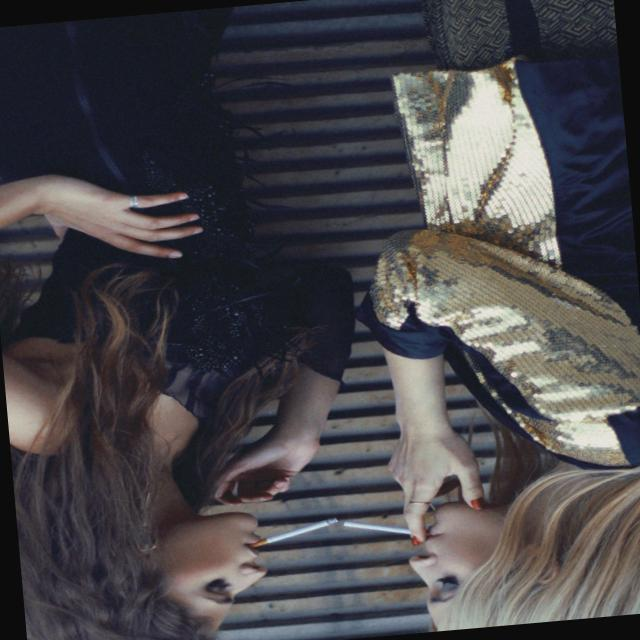smoke: (340, 511, 417, 543), (254, 517, 332, 541)
